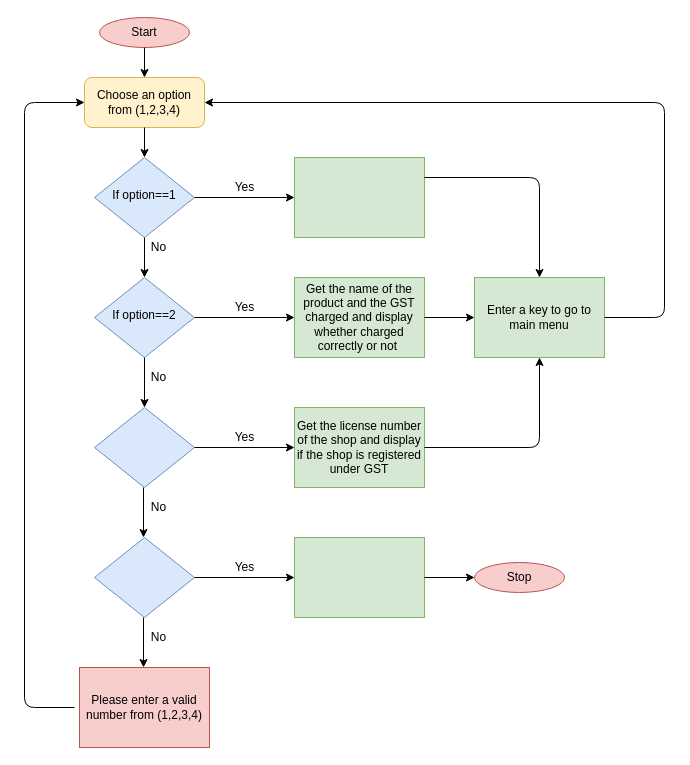
The diagram is 690 pixels wide and 765 high, and some of its shapes have lost their labels. The box of each missing label's shape, as (x1, y1, x2, y2) in pixels:
Exit the program: (294, 536, 424, 618)
Get the name of the product and display the GST of the product: (294, 156, 424, 238)
If option==3: (94, 406, 194, 488)
If option==4: (94, 536, 194, 618)
